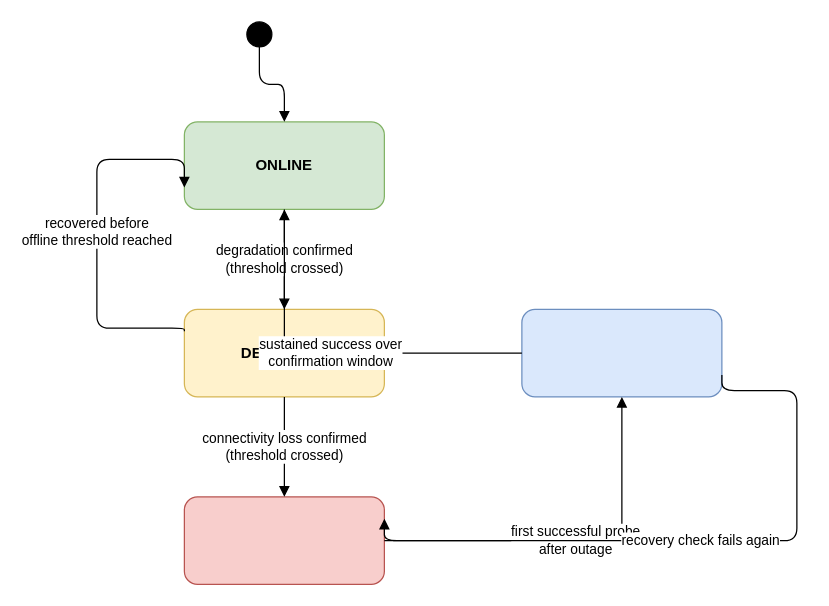
The diagram is 829 pixels wide and 606 high, and some of its shapes have lost their labels. Each missing label, with the centre of its shape:
OFFLINE: the point at 283,540
RECOVERING: the point at 621,352
